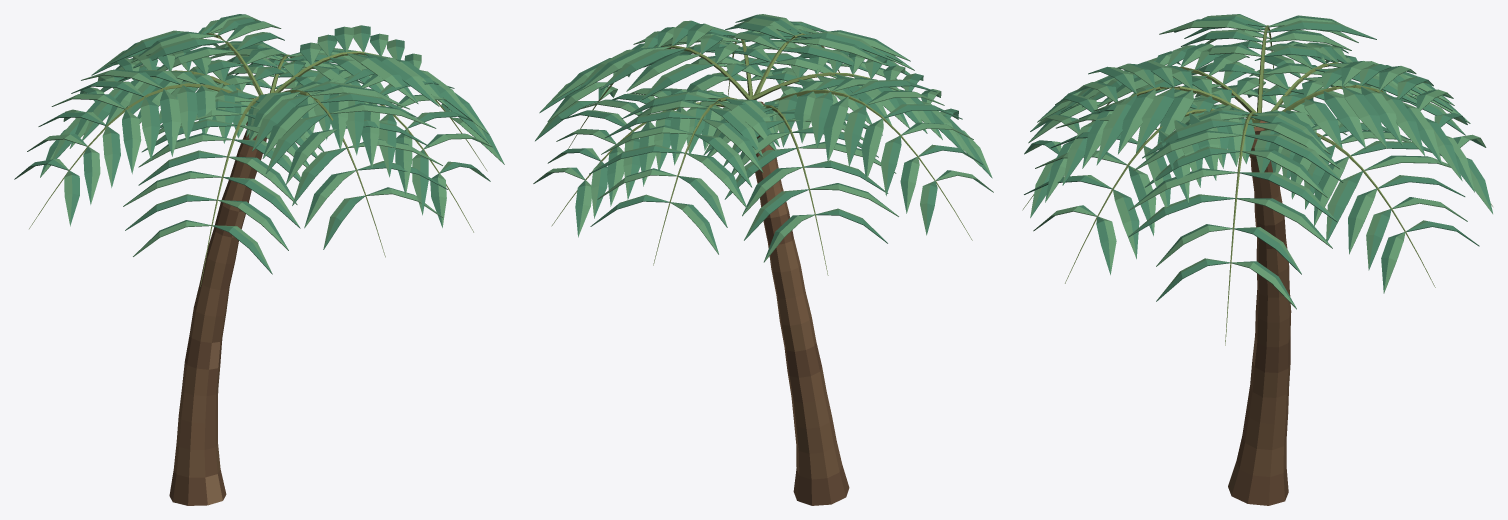
The model's file is palm-a.glb.
3 renders of one model, left to right at view 1: azimuth 30°, elevation 25°; view 2: azimuth 150°, elevation 25°; view 3: azimuth 270°, elevation 25°, orthographic. The views are drawn at different scales.
Parts seen in each view (by area): view 1: palm-a; view 2: palm-a; view 3: palm-a.
Boxes of the visible parts, left/top/right/bottom form: palm-a: left=14, top=14, right=504, bottom=505; palm-a: left=533, top=14, right=993, bottom=505; palm-a: left=1022, top=14, right=1492, bottom=505.
Size of the model in its own units: 4.95 by 4.57 by 4.32.
